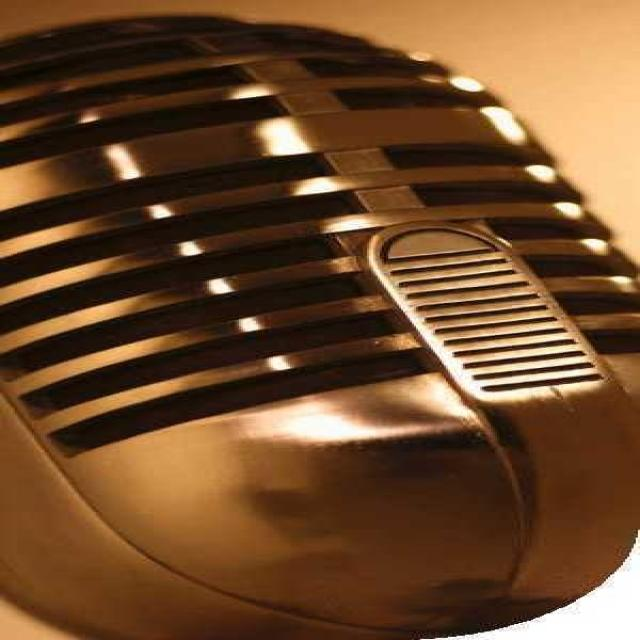microphone: (9, 6, 640, 626)
